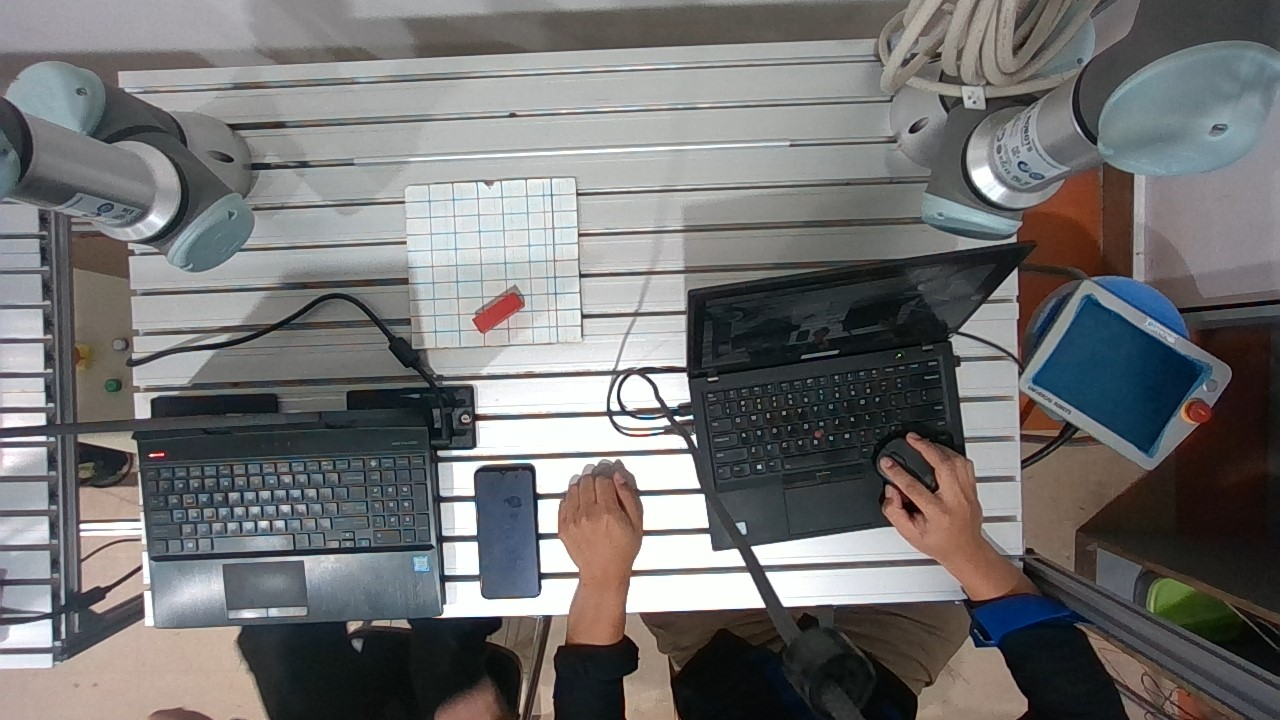box: (463, 285, 544, 335)
